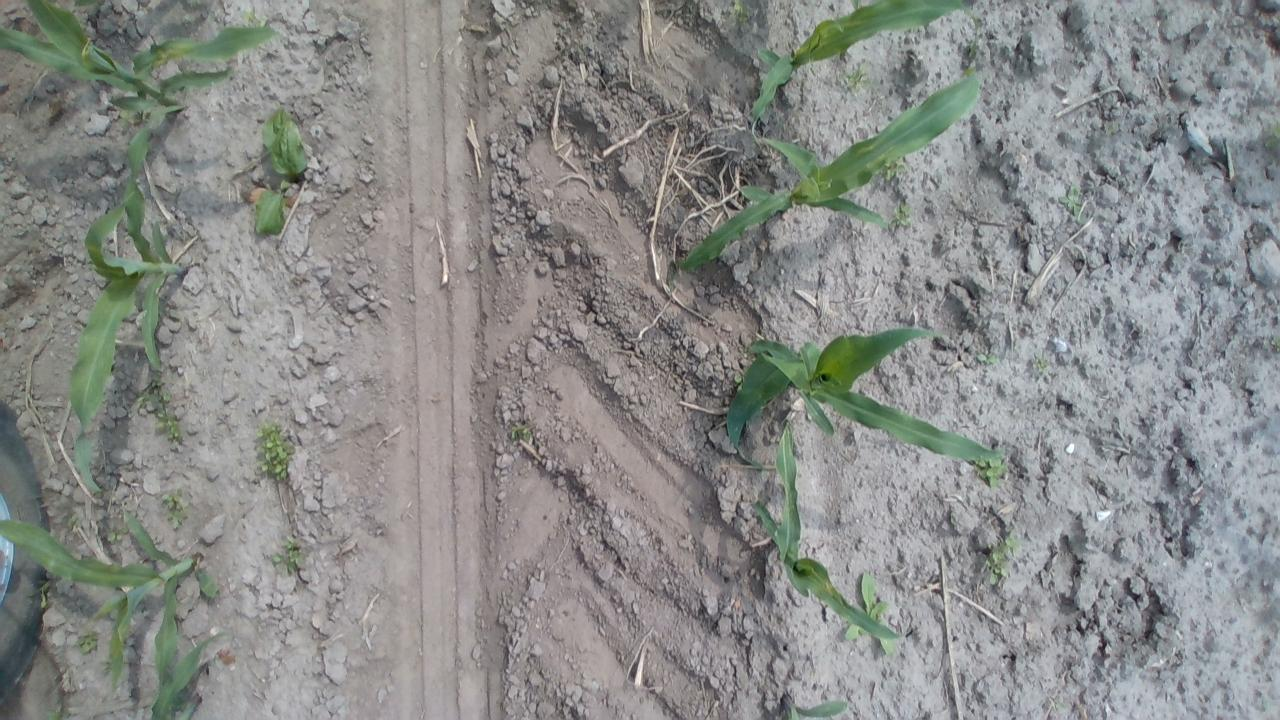Maize: (668, 60, 984, 288), (709, 312, 1004, 478), (68, 110, 192, 502), (0, 512, 225, 698), (742, 0, 985, 147), (756, 416, 904, 642), (0, 0, 290, 115), (144, 628, 234, 720), (764, 687, 864, 720)
Weeds: (247, 107, 324, 241), (847, 574, 897, 654), (252, 415, 302, 488), (138, 377, 184, 445), (978, 527, 1026, 592), (269, 536, 312, 578), (152, 488, 190, 534), (831, 62, 877, 97), (974, 452, 1008, 490), (722, 0, 768, 25), (1054, 186, 1084, 224), (232, 6, 275, 31), (968, 346, 1004, 373), (880, 160, 912, 186), (886, 200, 912, 231), (1026, 352, 1054, 378), (508, 420, 540, 442), (76, 632, 101, 658), (1261, 118, 1280, 152), (43, 703, 76, 720), (106, 525, 130, 547), (730, 370, 750, 392), (40, 576, 51, 610), (1270, 330, 1280, 358)
